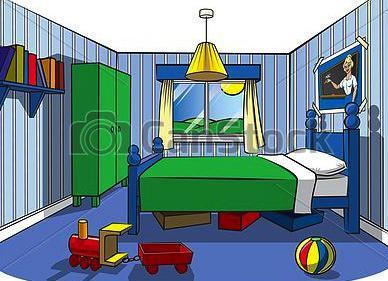person: (324, 52, 358, 102)
